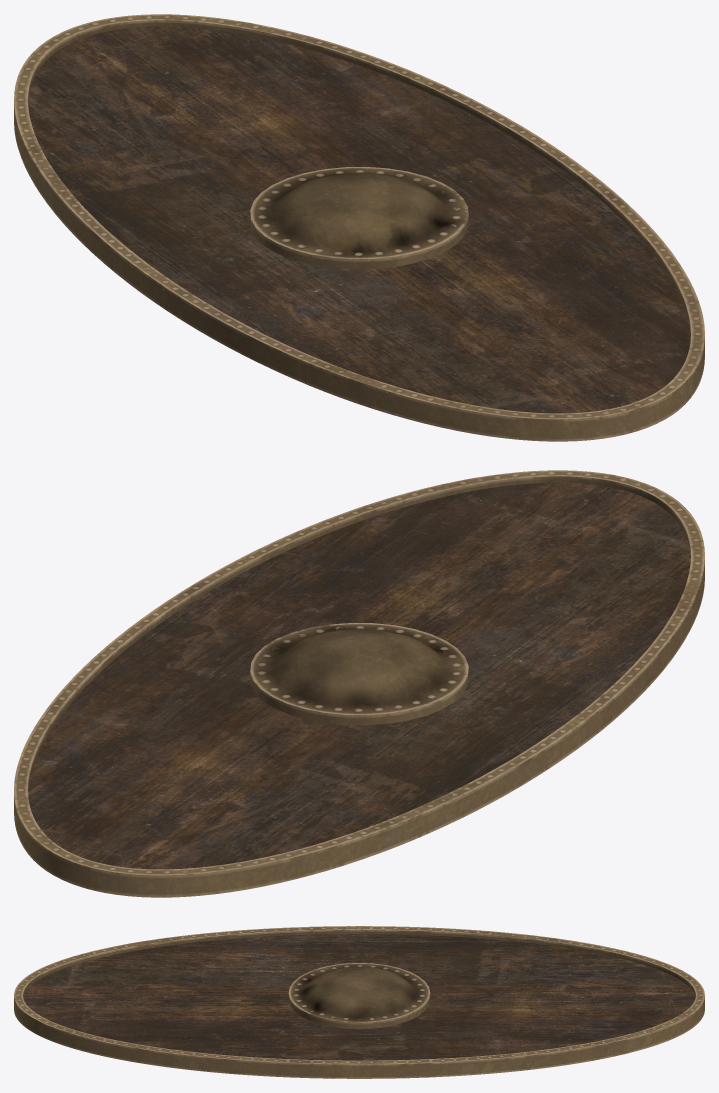
The model's file is dunland_wulf_shield_light_e.fbx.
3 renders of one model, top to bottom at view 1: azimuth 30°, elevation 25°; view 2: azimuth 150°, elevation 25°; view 3: azimuth 270°, elevation 25°, orthographic. The views are drawn at different scales.
Parts seen in each view (by area): view 1: dunland_wulf_shield_light_e; view 2: dunland_wulf_shield_light_e; view 3: dunland_wulf_shield_light_e.
Part boxes in pixels (box(x1,y1,x2,y2)): dunland_wulf_shield_light_e: box(14, 14, 704, 441); dunland_wulf_shield_light_e: box(14, 470, 704, 897); dunland_wulf_shield_light_e: box(14, 926, 704, 1078).
Bounding box in the file's own units: 0.7189 × 1.52 × 0.0818.
1 material, 1 textured.
